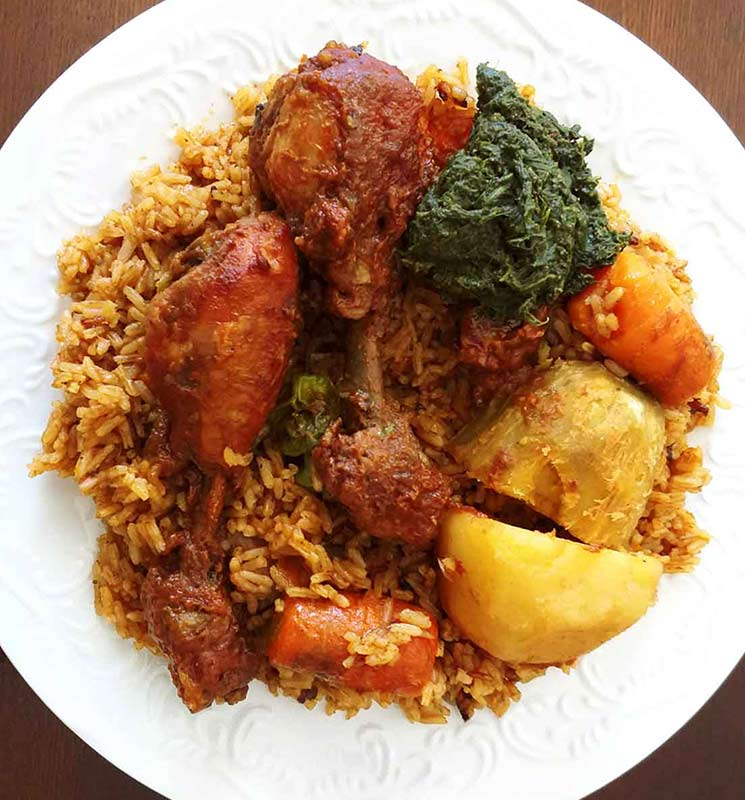carotte: (277, 605, 430, 689)
legumes: (480, 111, 573, 272)
patate: (472, 386, 661, 502)
poivron: (279, 368, 324, 453)
poulet: (269, 75, 413, 202)
riz: (51, 236, 146, 531)
